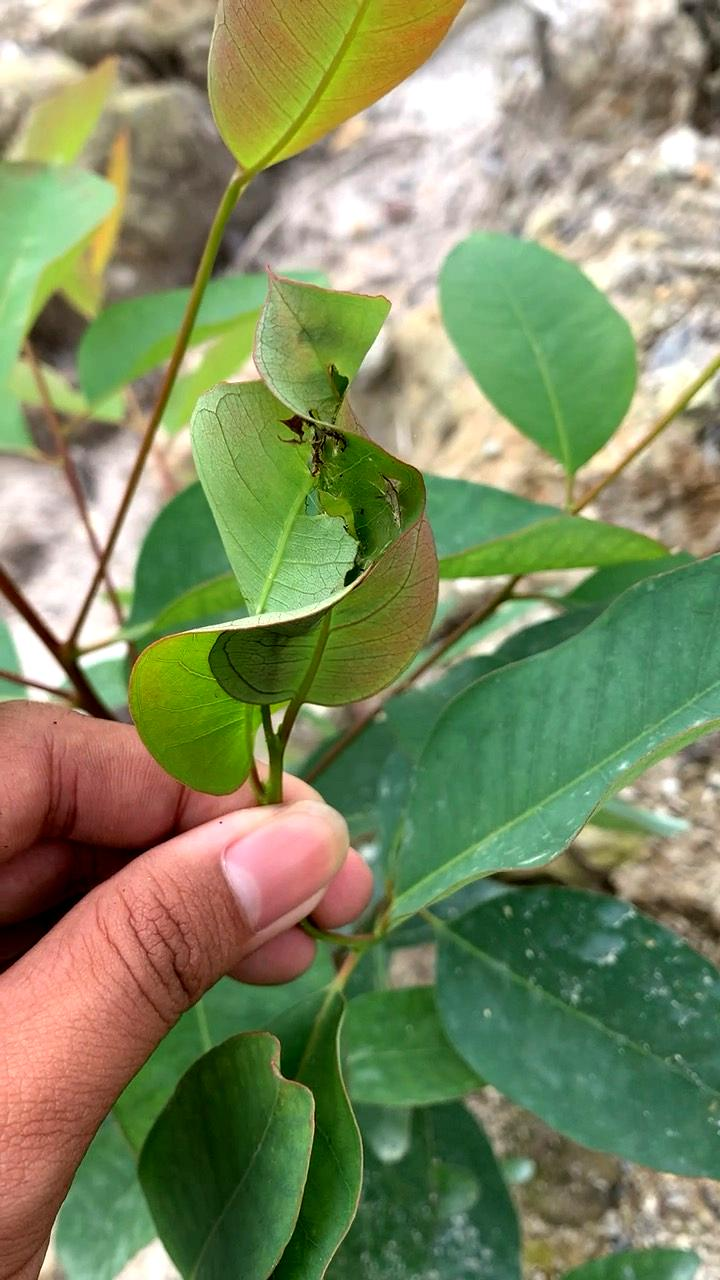Leaf Roller - Leaf: (93, 263, 463, 864)
